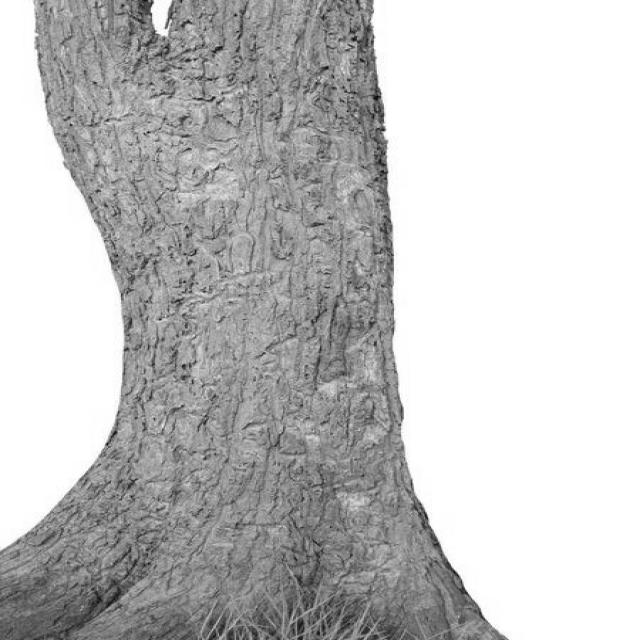Tree: (1, 0, 505, 640)
